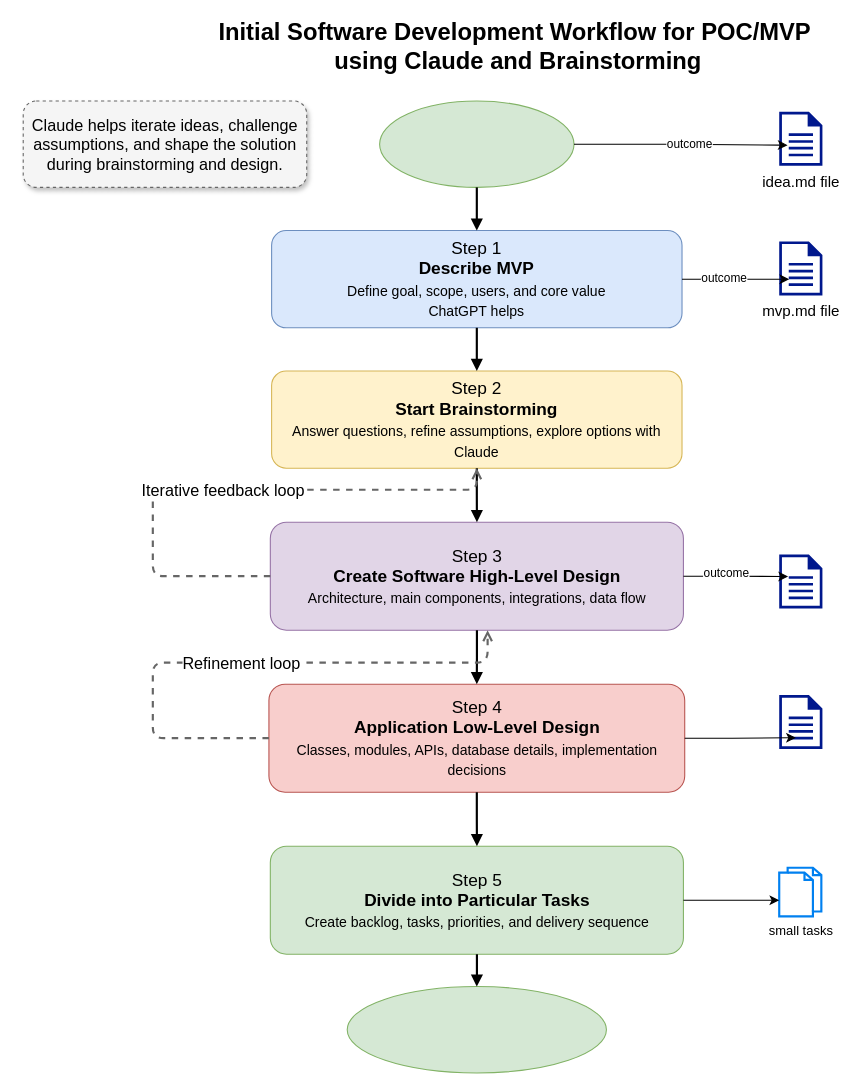
This 859x1092 diagram has some shape labels left out. The centre of each missing label's shape, as x and y in pixels:
"hld.md file" goes at point 800,581.
"lld.md file" goes at point 800,721.
"Ready for Development" goes at point 476,1029.
"Start Idea for MVP" goes at point 476,143.
